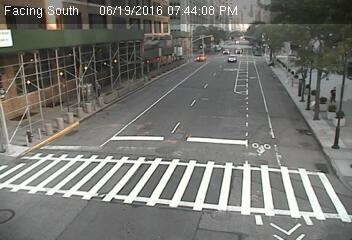neg: (184, 56, 205, 84), (144, 122, 163, 147), (201, 178, 220, 203), (272, 131, 290, 154), (257, 71, 273, 93), (9, 126, 25, 148), (92, 76, 107, 95), (23, 126, 34, 140)
pos: (327, 85, 342, 106)
